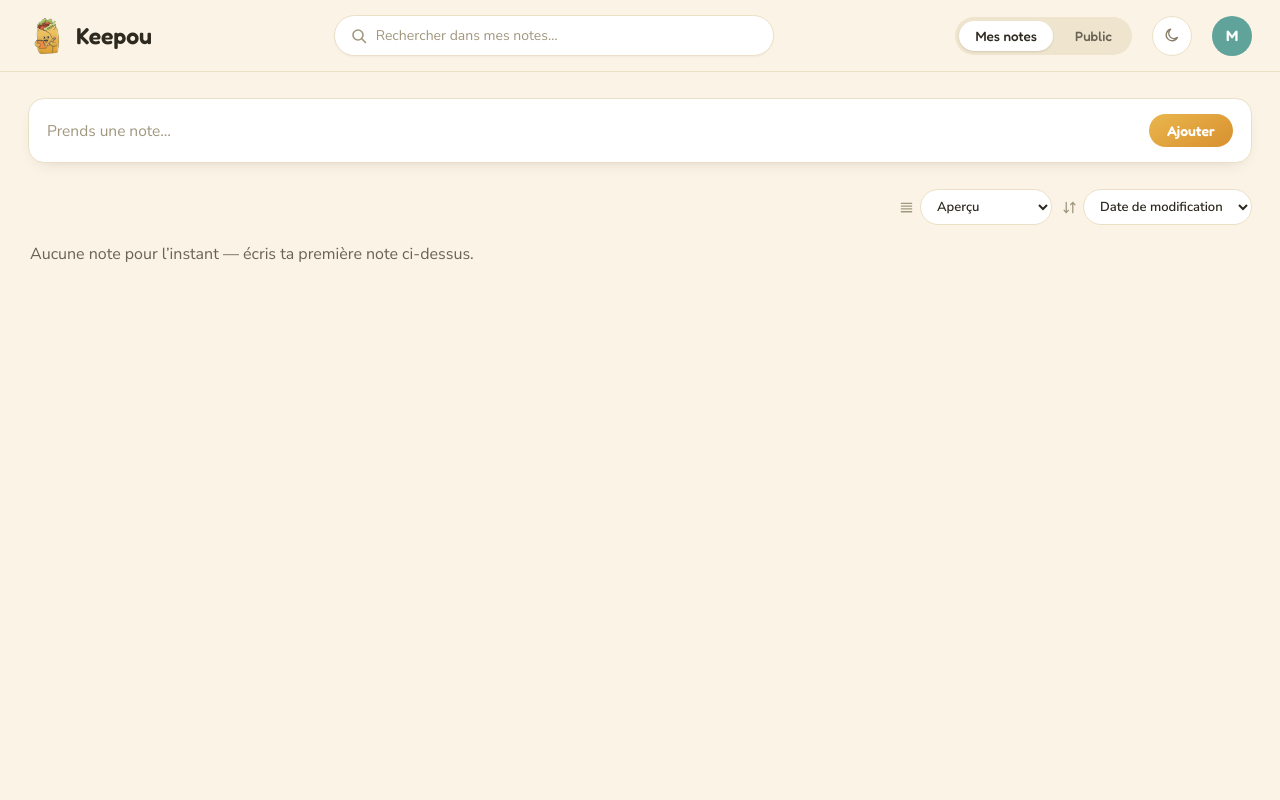
Test: import — entry point › opens from the avatar menu for every member
Click the button named "Menu du compte" at (1232, 36), box [1212,16,1252,56]
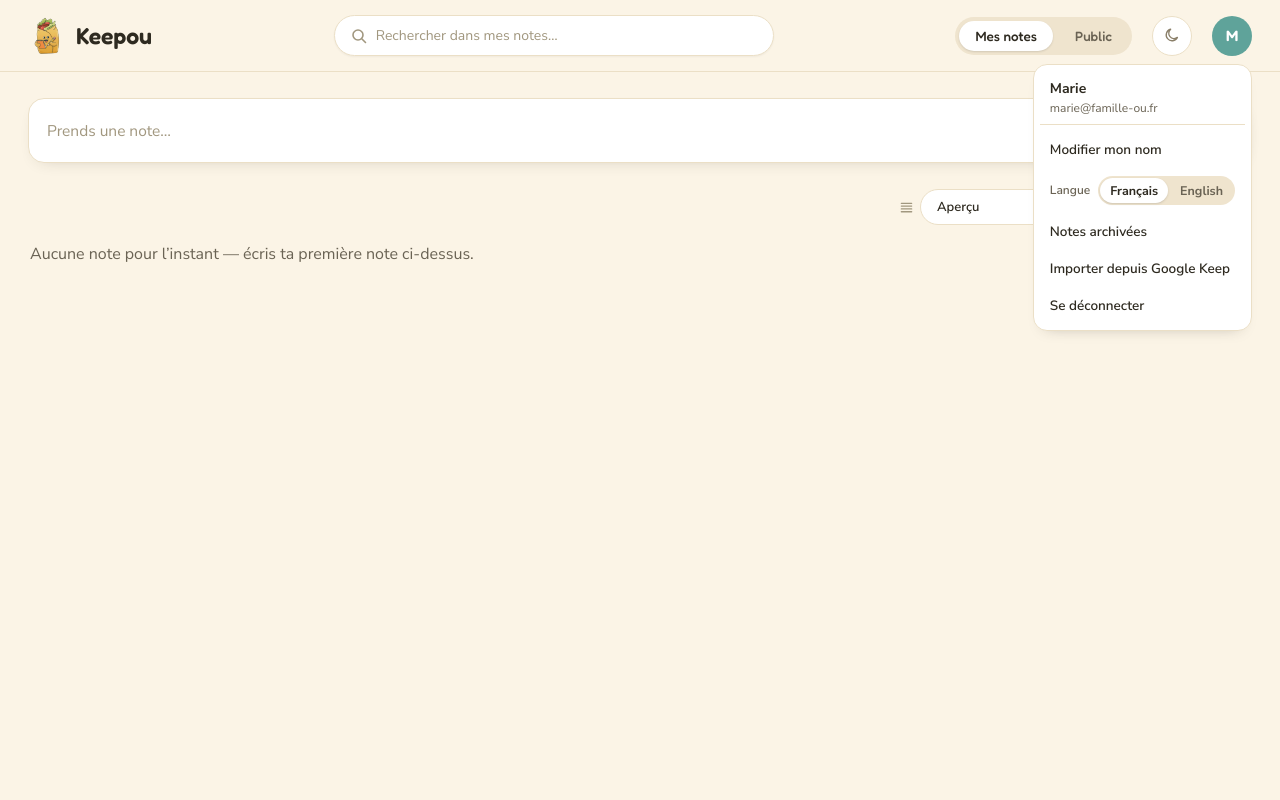
Click the menu item "Importer depuis Google Keep" at (1142, 268), box [1040,250,1245,286]
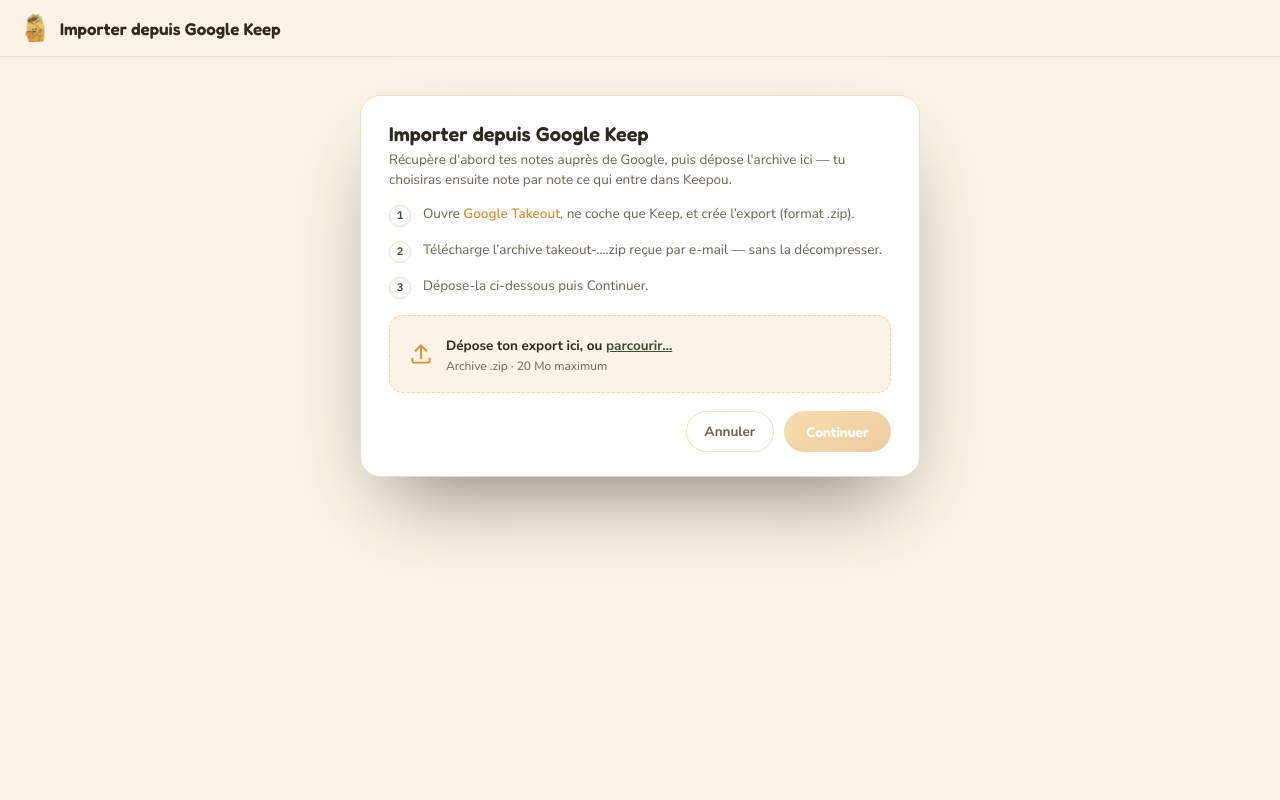
Expected: the text "Récupère d'abord tes notes" is shown, [389,150,845,189]
